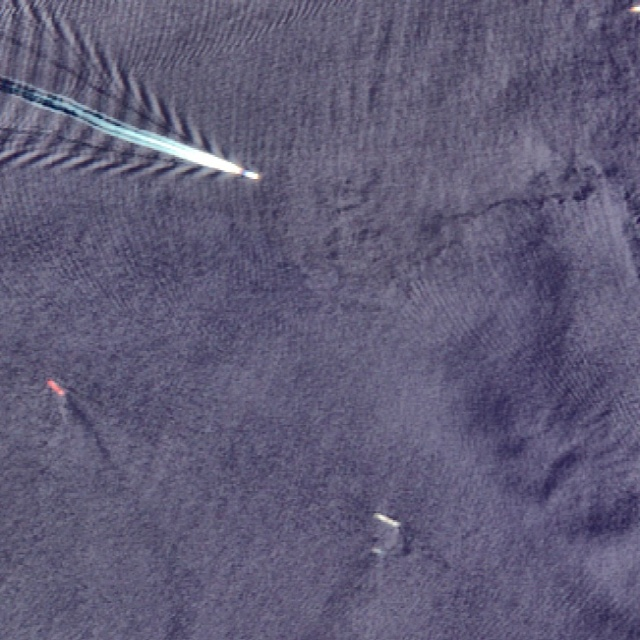wake: (65, 68, 282, 229)
